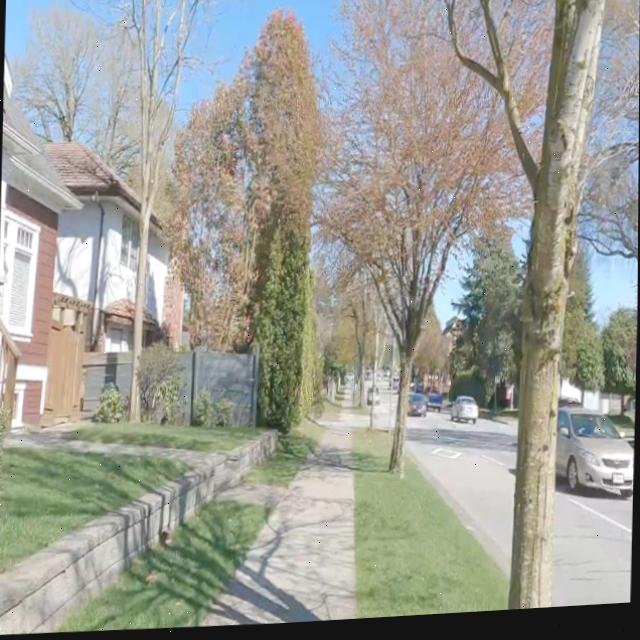Automobile: (557, 413, 634, 504), (451, 402, 478, 427), (409, 398, 424, 421), (428, 395, 443, 416), (366, 390, 379, 409)
Road: (408, 419, 515, 580), (555, 490, 633, 614), (372, 384, 396, 435), (341, 412, 370, 430)
Sidewalk: (205, 432, 354, 628)
